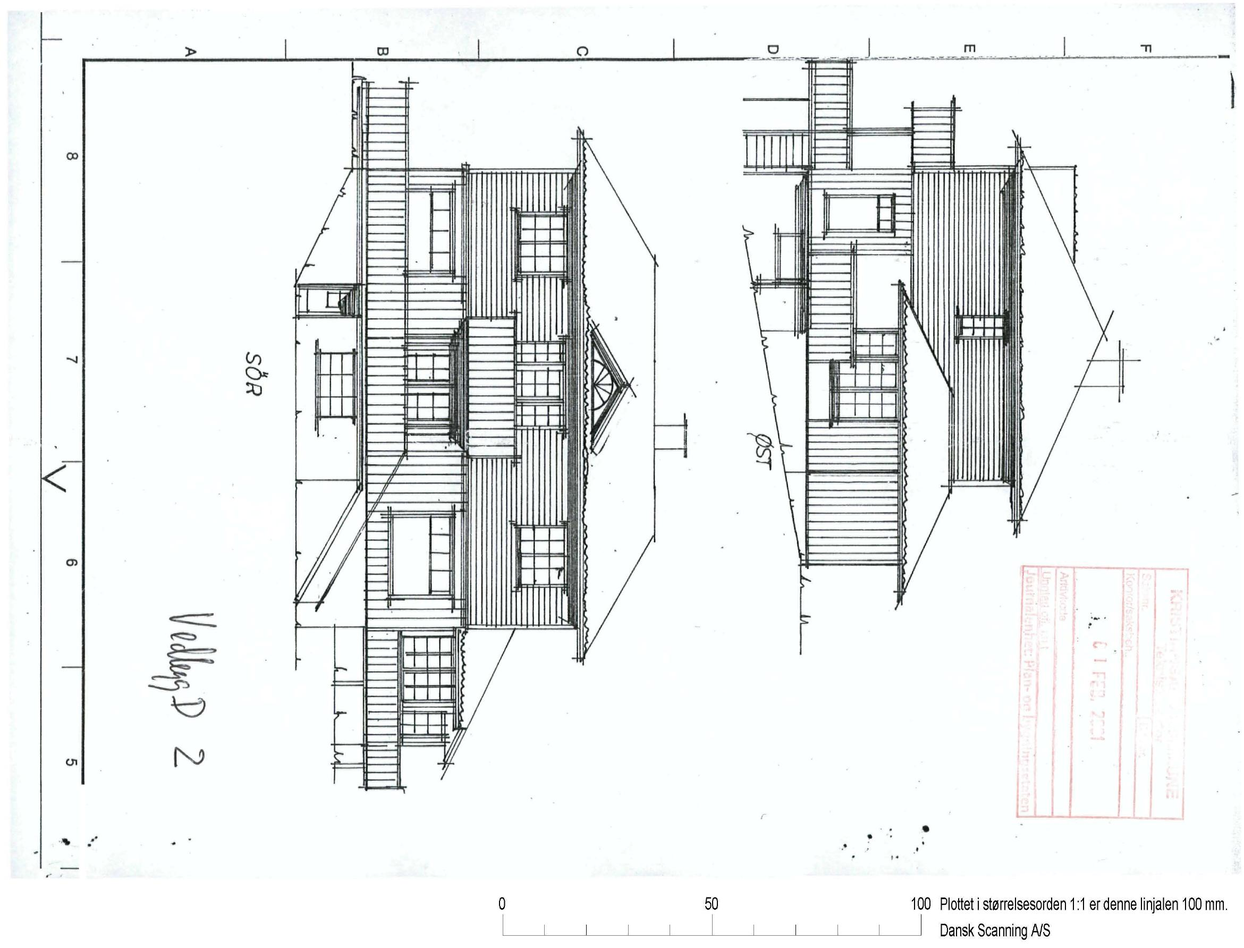fasade: (283, 66, 696, 797), (738, 63, 1138, 659)
